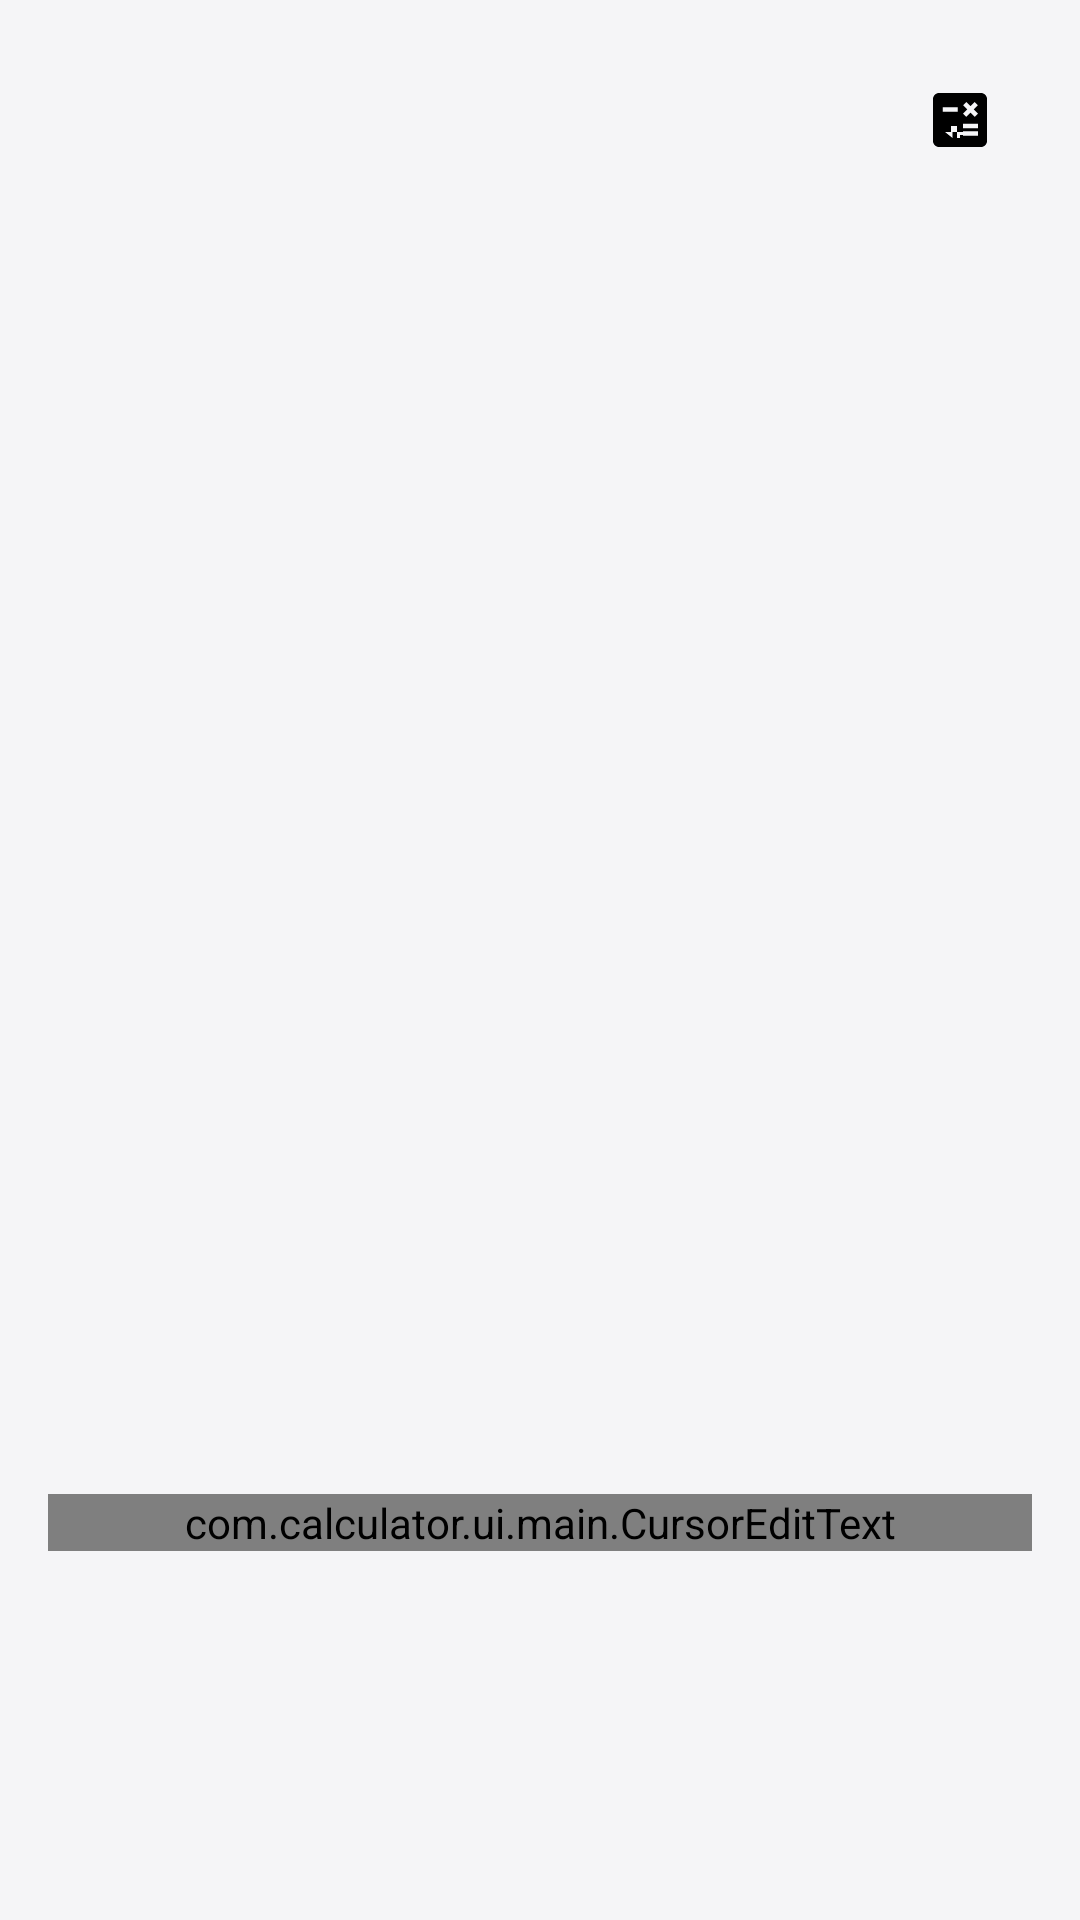

Icon click points for this 1080x1920 phone screenshot, format (x=x, y=y):
Basic: (x=960, y=120)
